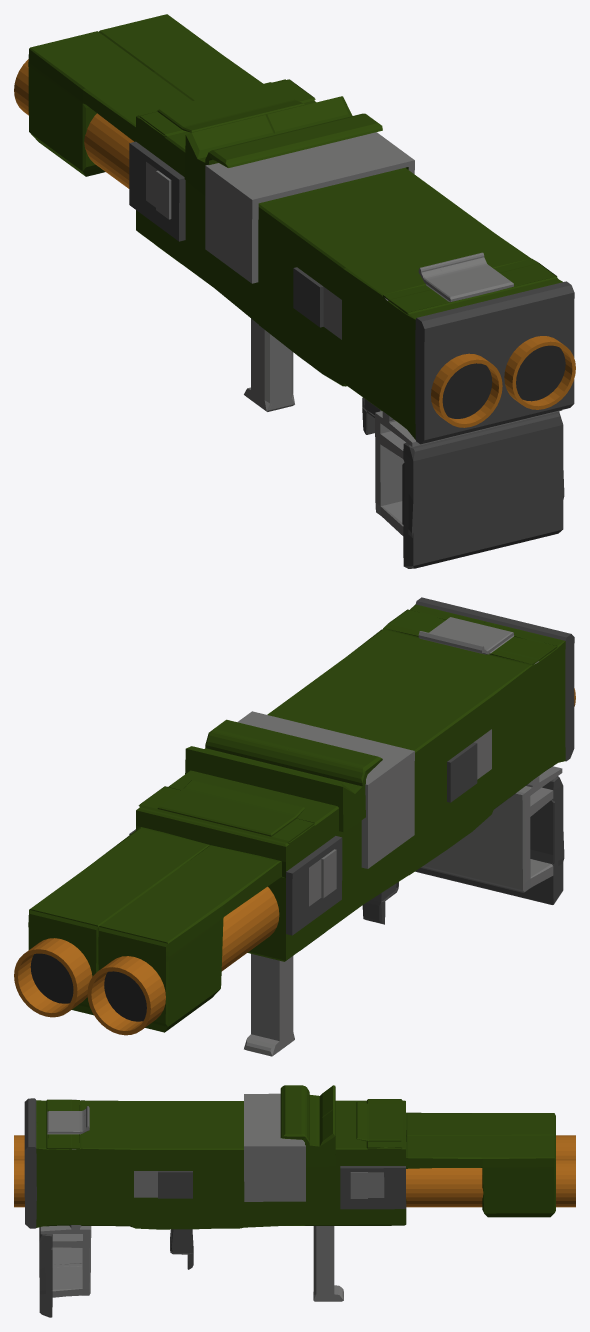
Rendered from ambazooka.fbx.
The picture shows the model from 3 angles, top to bottom: view 1: azimuth 30°, elevation 25°; view 2: azimuth 150°, elevation 25°; view 3: azimuth 270°, elevation 25°; orthographic projection. The views are drawn at different scales.
Parts seen in each view (by area): view 1: Cube; view 2: Cube; view 3: Cube.
Boxes of the visible parts, x1=… form: Cube: x1=14, y1=14, x2=575, y2=568; Cube: x1=14, y1=597, x2=575, y2=1056; Cube: x1=14, y1=1085, x2=575, y2=1317.
Size of the model in its own units: 114 by 185 by 500.
